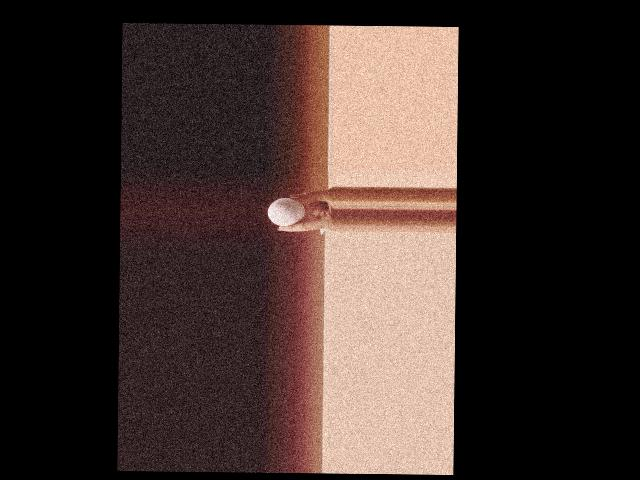egg: (268, 197, 306, 225)
